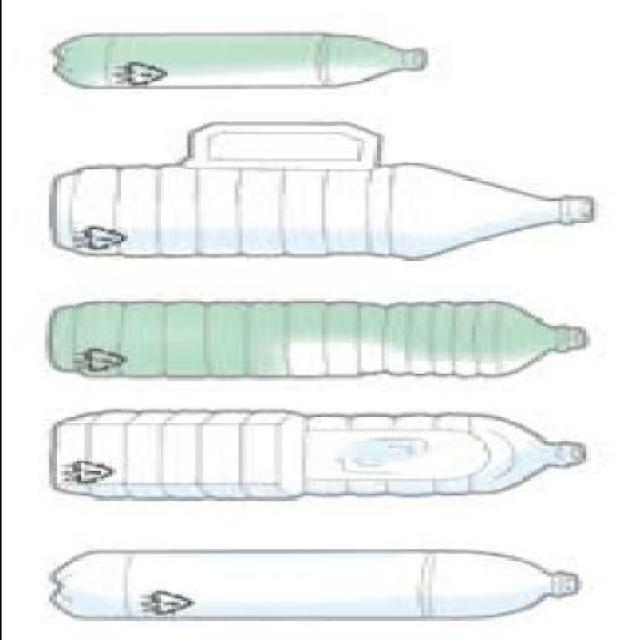PLASTIC: (52, 125, 596, 260), (56, 411, 589, 502), (51, 302, 588, 382), (56, 553, 584, 622), (55, 37, 431, 91)
